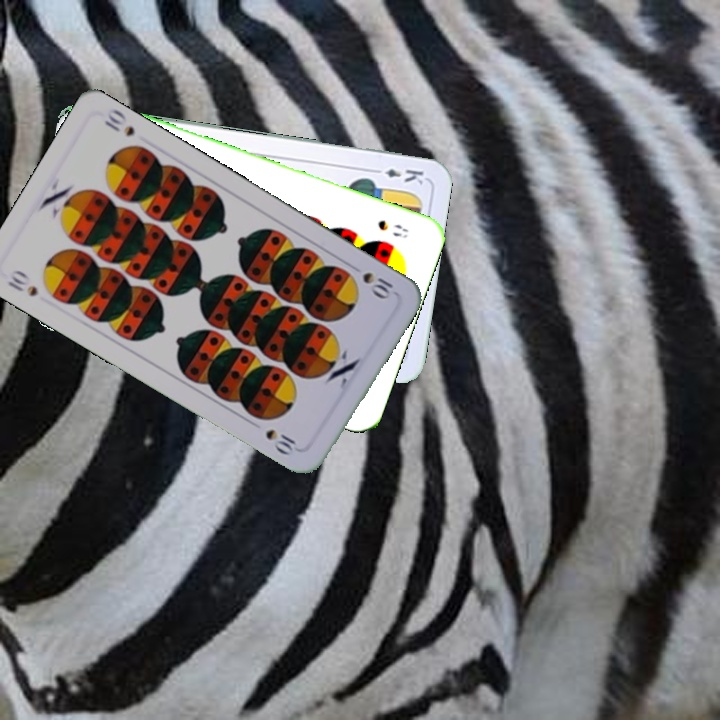EK: (368, 164, 426, 187)
S10: (358, 268, 398, 303), (3, 265, 41, 299)
S8: (373, 216, 411, 241)
